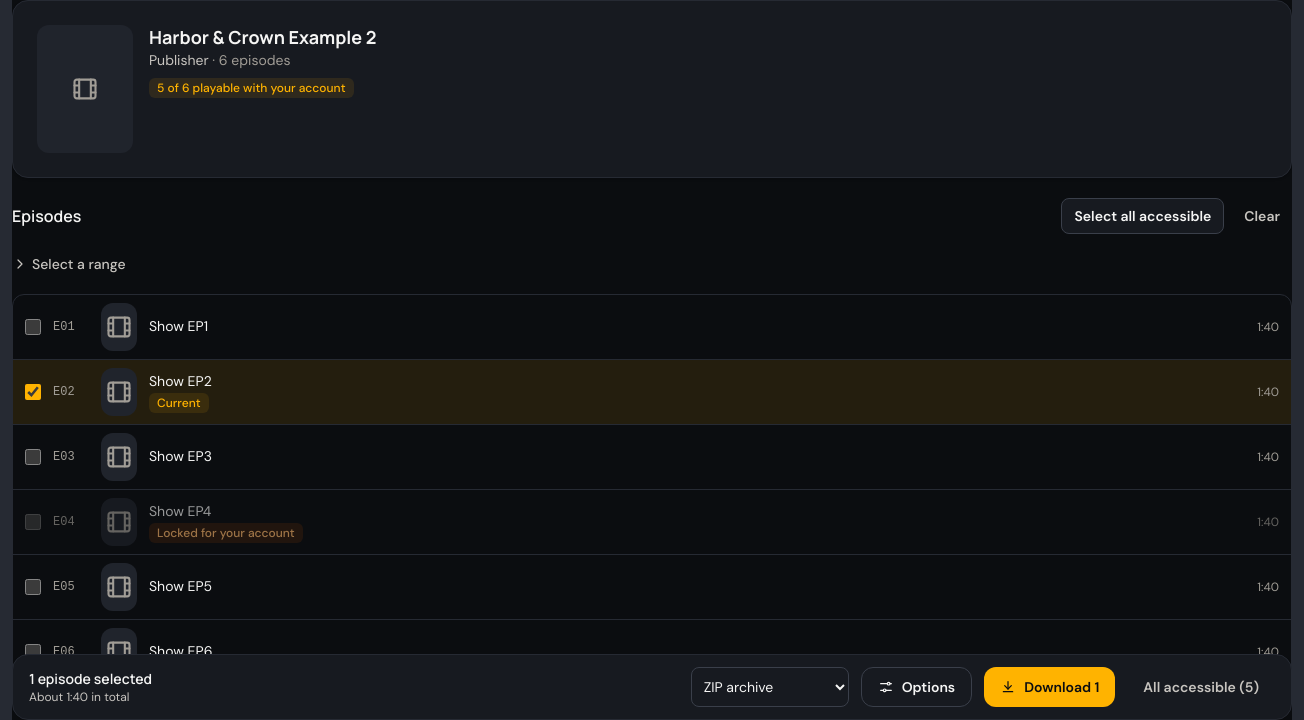
Test: Series view › changing the output keeps the selection and is sent with the batch
Expected: the list named "Episodes" is shown, [12, 294, 1292, 685]
Click the checkbox labelled "E03 Show EP3 1:40".
click(33, 457)  # box [25, 449, 41, 465]
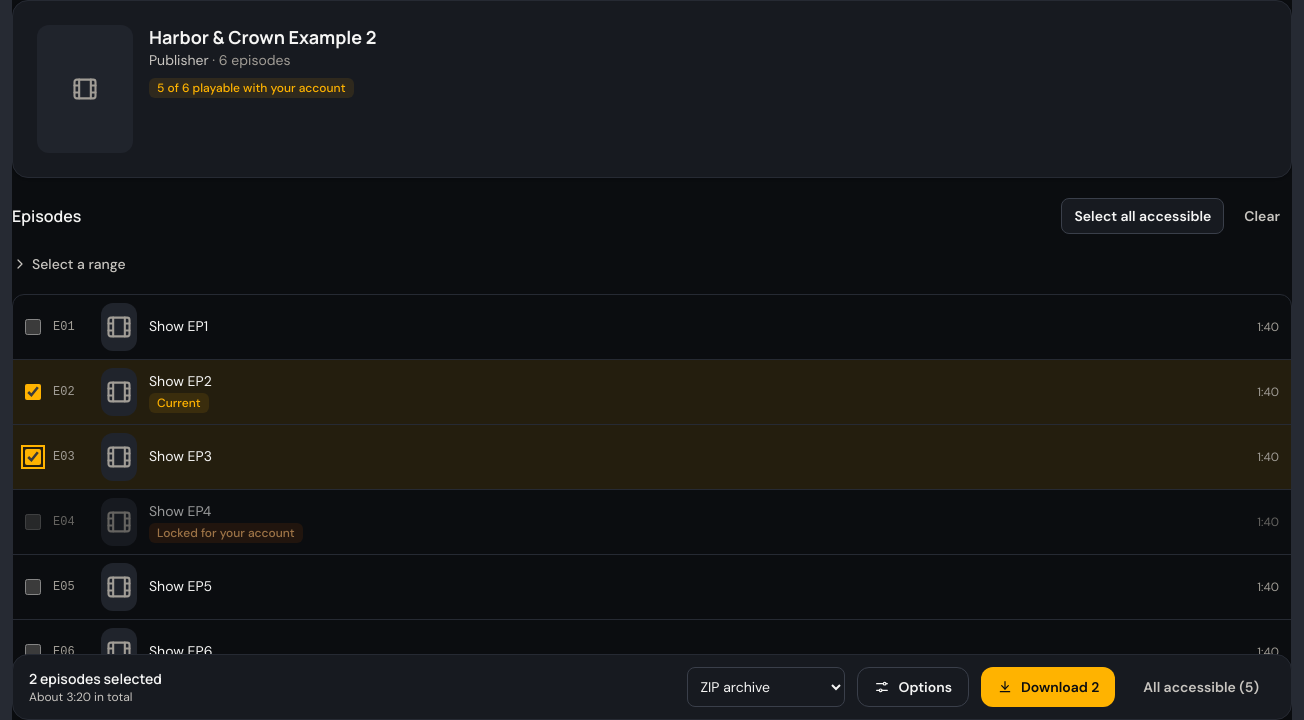
Select "Merged MP4" in the dropdown named "Output format" at (766, 687), box [688, 667, 846, 707]
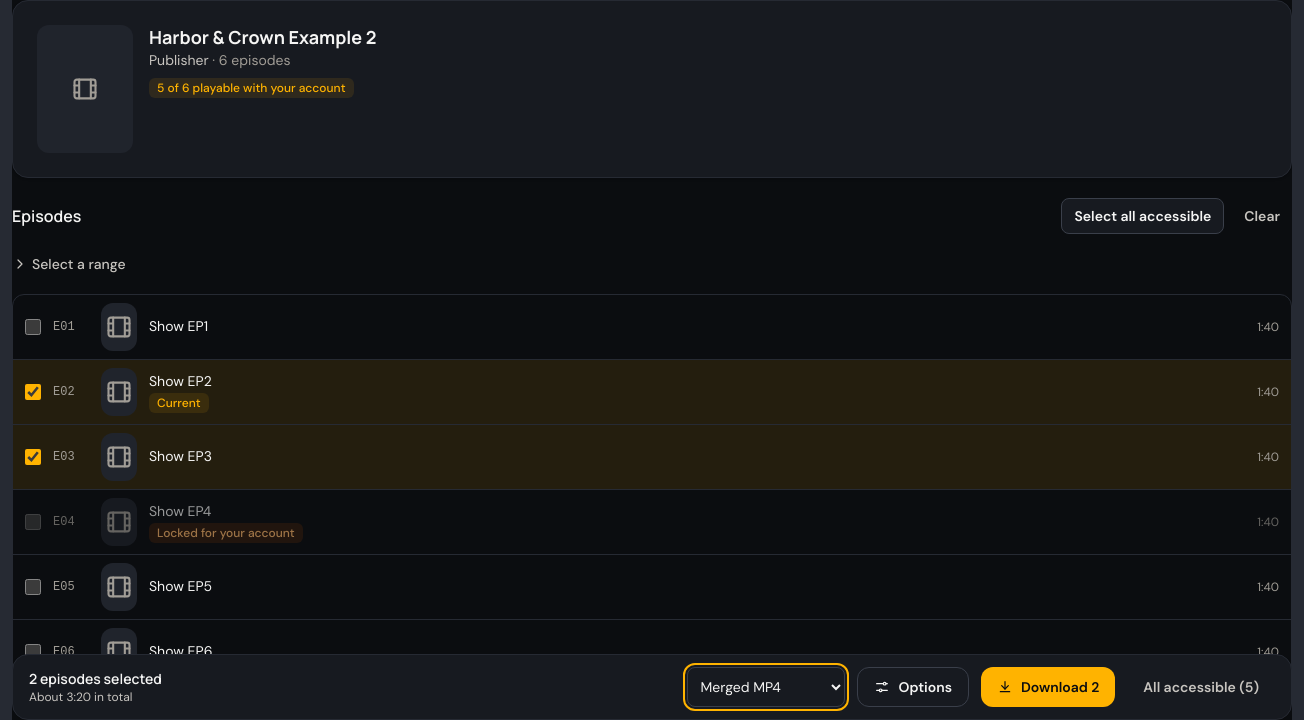
Click the button "Download 2".
click(1048, 687)  # box [981, 667, 1115, 707]
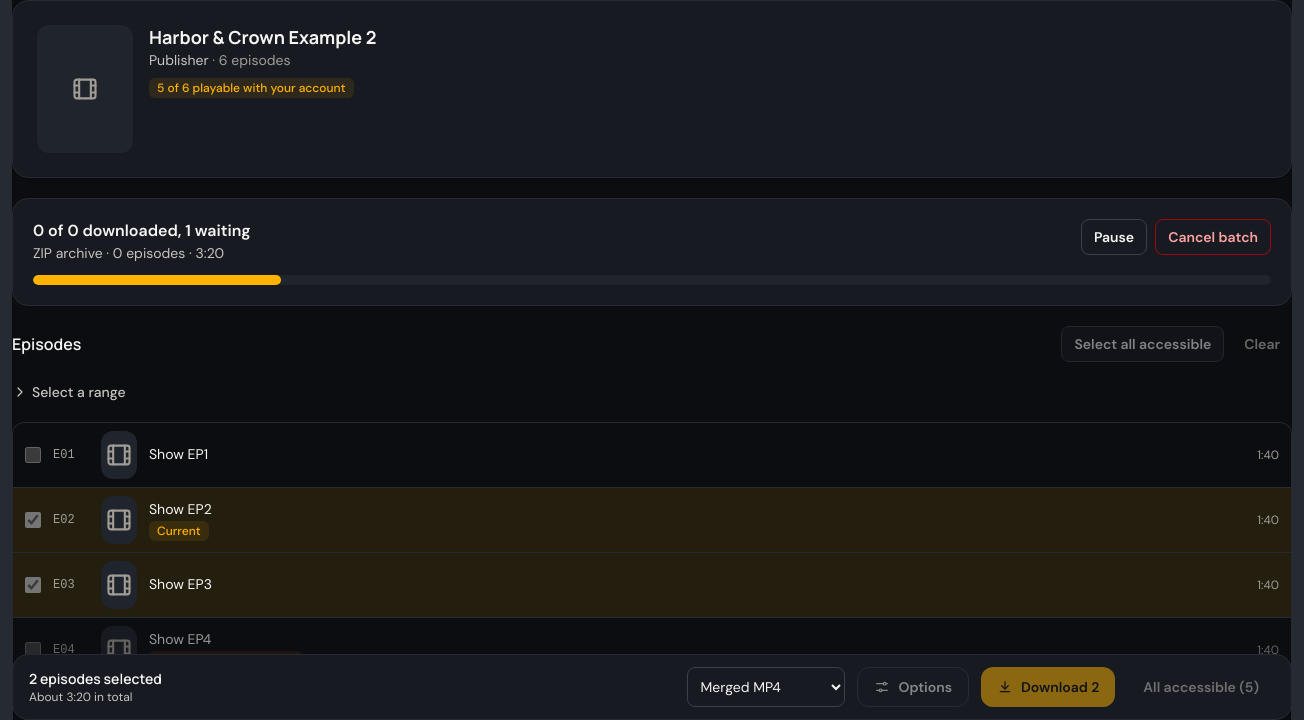
Now the element named "Batch progress" is shown, box [12, 198, 1292, 306]
